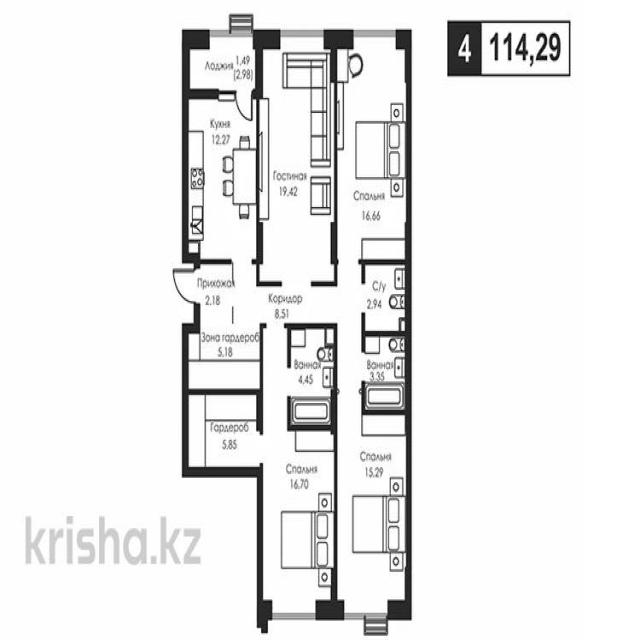balcony: (186, 34, 256, 95)
bathroom: (289, 327, 335, 428), (365, 336, 411, 416), (365, 264, 406, 336)
hallway: (233, 284, 338, 326), (196, 264, 234, 325)
kitchen: (185, 94, 258, 262)
living_room: (258, 34, 334, 285), (336, 34, 406, 262), (334, 411, 408, 613), (259, 427, 334, 617)
other: (187, 392, 259, 472), (186, 325, 260, 391)
